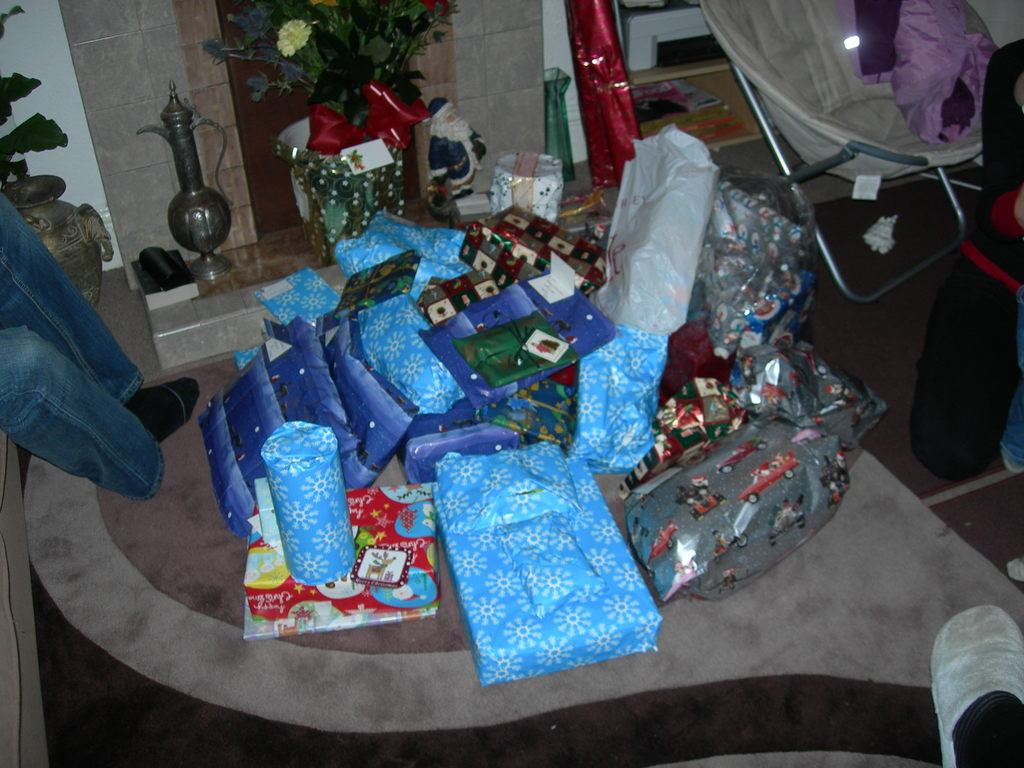Footwear: (116, 379, 208, 452)
